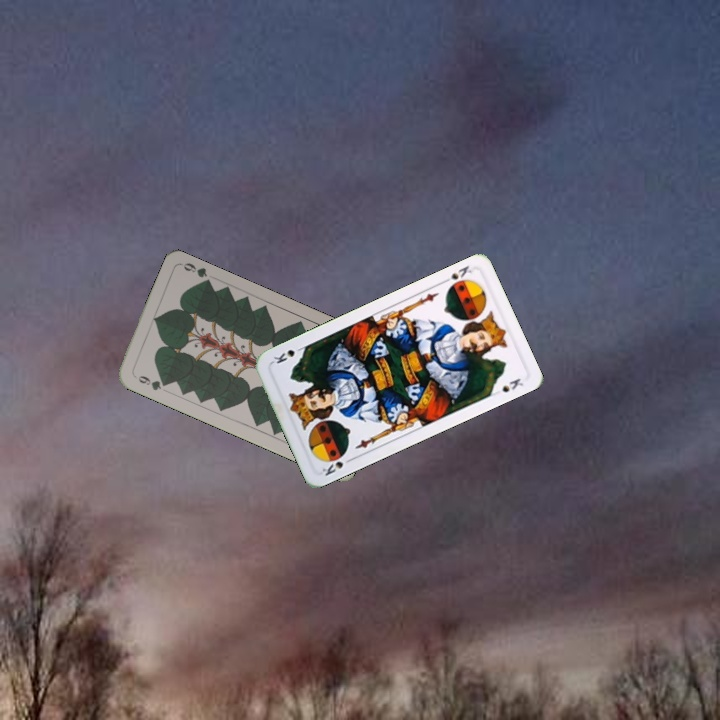G9: (130, 370, 170, 393)
SK: (318, 454, 356, 479), (438, 261, 474, 286)
